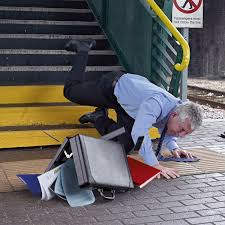falling: (52, 52, 208, 180)
